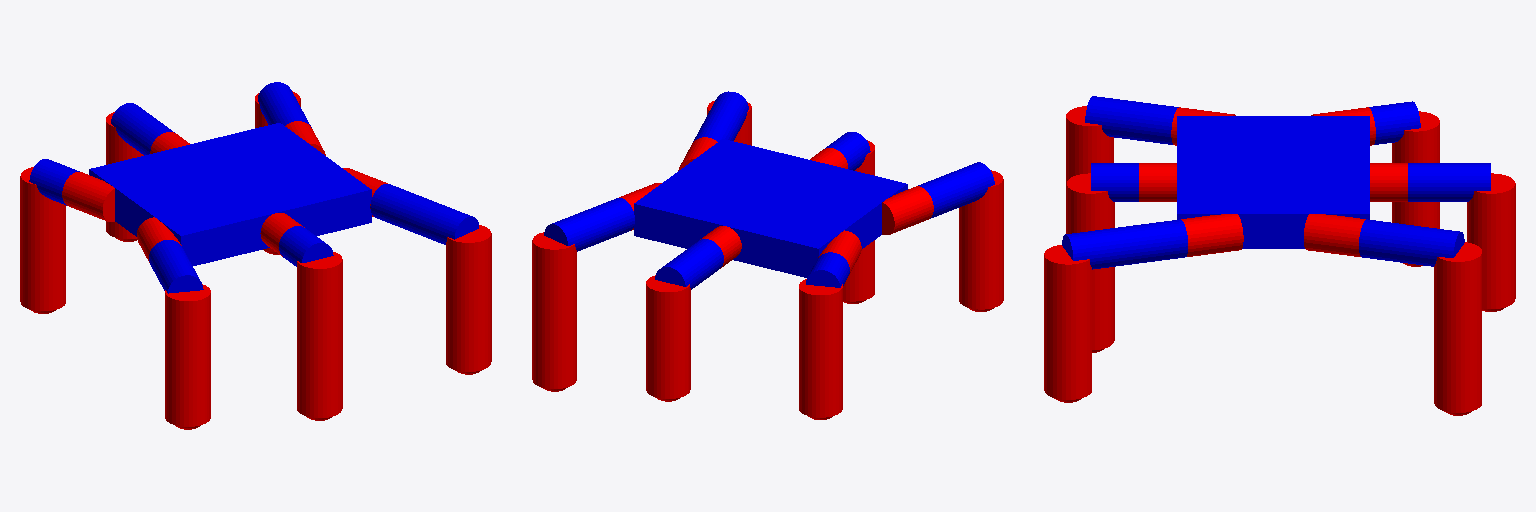
--- Render facts (derived) ---
3 views of the same robot in one strip: view 1: azimuth 30°, elevation 25°; view 2: azimuth 150°, elevation 25°; view 3: azimuth 270°, elevation 25° (orthographic).
Robot: pexod — 19 links, 18 joints (18 revolute); root link base_link; default pose: every joint at zero.
Visible links, largest first — view 1: base_link, leg_4_3, leg_3_3, leg_5_3, leg_0_3, leg_3_2, leg_5_2, leg_0_1, leg_1_2, leg_2_2, leg_4_2, leg_1_3 (+3 smaller); view 2: base_link, leg_2_3, leg_0_3, leg_5_3, leg_1_3, leg_2_2, leg_5_2, leg_1_2, leg_5_1, leg_3_2, leg_4_3, leg_0_2 (+3 smaller); view 3: base_link, leg_2_3, leg_3_3, leg_1_3, leg_3_2, leg_4_3, leg_2_2, leg_5_2, leg_1_2, leg_0_3, leg_5_3, leg_3_1 (+5 smaller).
Link boxes in pixels (x1,y1,x2,y2): base_link: (89,123,371,265); leg_4_3: (297,252,342,420); leg_3_3: (446,225,491,374); leg_5_3: (165,284,210,429); leg_0_3: (20,167,65,313); leg_3_2: (370,184,478,244); leg_5_2: (149,240,203,293); leg_0_1: (62,172,114,221); leg_1_2: (111,103,174,155); leg_2_2: (258,82,311,127); leg_4_2: (279,226,333,266); leg_1_3: (106,112,143,241); base_link: (634,139,907,277); leg_2_3: (532,232,576,391); leg_0_3: (799,279,842,419); leg_5_3: (959,170,1003,311); leg_1_3: (646,275,690,401); leg_2_2: (544,198,634,251); leg_5_2: (918,162,994,218); leg_1_2: (655,239,723,289); leg_5_1: (882,186,933,234); leg_3_2: (693,91,748,141); leg_4_3: (843,140,874,303); leg_0_2: (806,252,849,287); base_link: (1177,116,1369,248); leg_2_3: (1434,242,1481,415); leg_3_3: (1044,245,1091,402); leg_1_3: (1467,173,1515,311); leg_3_2: (1062,219,1187,269); leg_4_3: (1067,173,1114,352); leg_2_2: (1359,219,1464,266); leg_5_2: (1085,96,1178,144); leg_1_2: (1408,163,1490,201); leg_0_3: (1392,111,1439,266); leg_5_3: (1066,106,1113,233); leg_3_1: (1181,214,1243,256).
Size in the robot's own frame: 0.3899 by 0.4891 by 0.212 metres.
Geometry: primitives only (box / cylinder / sphere), no mesh files.

robot.urdf — pexod:
<?xml version="1.0" ?>
<!-- =================================================================================== -->
<!-- |    This document was autogenerated by xacro from pexod.xacro                    | -->
<!-- |    EDITING THIS FILE BY HAND IS NOT RECOMMENDED                                 | -->
<!-- =================================================================================== -->
<robot name="pexod" xmlns:xacro="http://www.ros.org/wiki/xacro">
  <!-- <xacro:include filename="$(find pexod_description)/urdf/pexod_control.xacro" /> -->
  <!-- MATERIALS -->
  <material name="Blue">
    <color rgba="0 0 1 1"/>
  </material>
  <material name="Red">
    <color rgba="1 0 0 1"/>
  </material>
  <material name="Green">
    <color rgba="0 1 0 1"/>
  </material>
  <material name="Yellow">
    <color rgba="1 1 0 1"/>
  </material>
  <material name="LightGrey">
    <color rgba="0.6 0.6 0.6 1.0"/>
  </material>
  <!-- END OF MATERIALS -->
  <!-- XACRO MACROS FOR VISUALS AND COLLISIONS -->
  <!-- END OF XACRO MACROS -->
  <!-- TORSO -->
  <link name="base_link">
    <visual>
      <origin rpy="0 0 0" xyz="0 0 0"/>
      <geometry>
        <box size="0.24 0.2 0.04"/>
      </geometry>
      <material name="Blue"/>
    </visual>
    <collision>
      <origin rpy="0 0 0" xyz="0 0 0"/>
      <geometry>
        <box size="0.24 0.2 0.04"/>
      </geometry>
    </collision>
    <inertial>
      <!-- CENTER OF MASS -->
      <origin rpy="0 0 0" xyz="0 0 0"/>
      <mass value="1.031"/>
      <!-- box inertia: 1/12*m(y^2+z^2), ... -->
      <inertia ixx="0.00357413333333" ixy="0" ixz="0" iyy="0.00508626666667" iyz="0" izz="0.00838546666667"/>
    </inertial>
  </link>
  <!-- XACRO MACRO FOR LEGS LINKS/JOINTS -->
  <!-- END OF LEG LINKS/JOINTS -->
  <joint name="body_leg_2" type="revolute">
    <parent link="base_link"/>
    <child link="leg_2_1"/>
    <limit effort="30.0" lower="-1.57079632679" upper="1.57079632679" velocity="7.0"/>
    <origin rpy="0 0 -0.3" xyz="0.11 0.04 0"/>
    <!-- <xacro:if value="${index == 5 or index == 4 or index == 3}">
                <axis xyz="0 0 1"/>
            </xacro:if>
            <xacro:if value="${index == 2 or index == 1 or index == 0}"> -->
    <axis xyz="0 0 1"/>
    <!-- </xacro:if> -->
    <dynamics damping="0.0"/>
  </joint>
  <link name="leg_2_1">
    <visual>
      <origin rpy="1.57079632679 0 0" xyz="0.01 0.03 0"/>
      <geometry>
        <cylinder length="0.06" radius="0.02"/>
      </geometry>
      <material name="Red"/>
    </visual>
    <collision>
      <origin rpy="1.57079632679 0 0" xyz="0.01 0.03 0"/>
      <geometry>
        <box size="0.02 0.02 0.06"/>
      </geometry>
    </collision>
    <inertial>
      <!-- CENTER OF MASS -->
      <origin rpy="1.57079632679 0 0" xyz="0.01 0.03 0"/>
      <mass value="0.02"/>
      <!-- box inertia: 1/12*m(y^2+z^2), ... -->
      <inertia ixx="6.66666666667e-06" ixy="0" ixz="0" iyy="6.66666666667e-06" iyz="0" izz="1.33333333333e-06"/>
    </inertial>
  </link>
  <joint name="leg_2_1_2" type="revolute">
    <parent link="leg_2_1"/>
    <child link="leg_2_2"/>
    <limit effort="30.0" lower="-0.78539816339" upper="0.78539816339" velocity="7.0"/>
    <origin rpy="0 0 0" xyz="0 0.06 0"/>
    <axis xyz="1 0 0"/>
    <dynamics damping="0.0"/>
  </joint>
  <link name="leg_2_2">
    <visual>
      <origin rpy="1.57079632679 0 0" xyz="0.01 0.051370087648 0"/>
      <geometry>
        <cylinder length="0.102740175296" radius="0.02"/>
      </geometry>
      <material name="Blue"/>
    </visual>
    <collision>
      <origin rpy="1.57079632679 0 0" xyz="0.01 0.051370087648 0"/>
      <geometry>
        <box size="0.02 0.02 0.102740175296"/>
      </geometry>
    </collision>
    <inertial>
      <!-- CENTER OF MASS -->
      <origin rpy="1.57079632679 0 0" xyz="0.01 0.051370087648 0"/>
      <mass value="0.184"/>
      <!-- box inertia: 1/12*m(y^2+z^2), ... -->
      <inertia ixx="0.000167985002171" ixy="0" ixz="0" iyy="0.000167985002171" iyz="0" izz="1.22666666667e-05"/>
    </inertial>
  </link>
  <joint name="leg_2_2_3" type="revolute">
    <parent link="leg_2_2"/>
    <child link="leg_2_3"/>
    <limit effort="30.0" lower="-0.78539816339" upper="0.78539816339" velocity="7.0"/>
    <origin rpy="-1.57079632679 0 0" xyz="0 0.102740175296 0"/>
    <axis xyz="-1 0 0"/>
    <dynamics damping="0.0"/>
  </joint>
  <link name="leg_2_3">
    <visual>
      <origin rpy="1.57079632679 0 0" xyz="0.0125 0.0865834188535 0"/>
      <geometry>
        <cylinder length="0.173166837707" radius="0.025"/>
      </geometry>
      <material name="Red"/>
    </visual>
    <visual>
      <origin rpy="1.57079632679 0 0" xyz="0.0125 0.160666837707 0"/>
      <geometry>
        <sphere radius="0.025"/>
      </geometry>
      <material name="Red"/>
    </visual>
    <collision>
      <origin rpy="1.57079632679 0 0" xyz="0.0125 0.0865834188535 0"/>
      <geometry>
        <box size="0.025 0.025 0.173166837707"/>
      </geometry>
    </collision>
    <collision>
      <origin rpy="1.57079632679 0 0" xyz="0.0125 0.160666837707 0"/>
      <geometry>
        <sphere radius="0.025"/>
      </geometry>
      <material name="Red"/>
    </collision>
    <inertial>
      <!-- CENTER OF MASS -->
      <origin rpy="1.57079632679 0 0" xyz="0.0125 0.0865834188535 0"/>
      <mass value="0.04"/>
      <!-- box inertia: 1/12*m(y^2+z^2), ... -->
      <inertia ixx="0.000102039178938" ixy="0" ixz="0" iyy="0.000102039178938" iyz="0" izz="4.16666666667e-06"/>
    </inertial>
  </link>
  <joint name="body_leg_3" type="revolute">
    <parent link="base_link"/>
    <child link="leg_3_1"/>
    <limit effort="30.0" lower="-1.57079632679" upper="1.57079632679" velocity="7.0"/>
    <origin rpy="0 0 0.3" xyz="0.11 -0.04 0"/>
    <!-- <xacro:if value="${index == 5 or index == 4 or index == 3}">
                <axis xyz="0 0 1"/>
            </xacro:if>
            <xacro:if value="${index == 2 or index == 1 or index == 0}"> -->
    <axis xyz="0 0 1"/>
    <!-- </xacro:if> -->
    <dynamics damping="0.0"/>
  </joint>
  <link name="leg_3_1">
    <visual>
      <origin rpy="1.57079632679 0 0" xyz="0.01 -0.03 0"/>
      <geometry>
        <cylinder length="0.06" radius="0.02"/>
      </geometry>
      <material name="Red"/>
    </visual>
    <collision>
      <origin rpy="1.57079632679 0 0" xyz="0.01 -0.03 0"/>
      <geometry>
        <box size="0.02 0.02 0.06"/>
      </geometry>
    </collision>
    <inertial>
      <!-- CENTER OF MASS -->
      <origin rpy="1.57079632679 0 0" xyz="0.01 -0.03 0"/>
      <mass value="0.02"/>
      <!-- box inertia: 1/12*m(y^2+z^2), ... -->
      <inertia ixx="6.66666666667e-06" ixy="0" ixz="0" iyy="6.66666666667e-06" iyz="0" izz="1.33333333333e-06"/>
    </inertial>
  </link>
  <joint name="leg_3_1_2" type="revolute">
    <parent link="leg_3_1"/>
    <child link="leg_3_2"/>
    <limit effort="30.0" lower="-0.78539816339" upper="0.78539816339" velocity="7.0"/>
    <origin rpy="0 0 0" xyz="0 -0.06 0"/>
    <axis xyz="-1 0 0"/>
    <dynamics damping="0.0"/>
  </joint>
  <link name="leg_3_2">
    <visual>
      <origin rpy="1.57079632679 0 0" xyz="0.01 -0.062484882601 0"/>
      <geometry>
        <cylinder length="0.124969765202" radius="0.02"/>
      </geometry>
      <material name="Blue"/>
    </visual>
    <collision>
      <origin rpy="1.57079632679 0 0" xyz="0.01 -0.062484882601 0"/>
      <geometry>
        <box size="0.02 0.02 0.124969765202"/>
      </geometry>
    </collision>
    <inertial>
      <!-- CENTER OF MASS -->
      <origin rpy="1.57079632679 0 0" xyz="0.01 -0.062484882601 0"/>
      <mass value="0.184"/>
      <!-- box inertia: 1/12*m(y^2+z^2), ... -->
      <inertia ixx="0.000245600780625" ixy="0" ixz="0" iyy="0.000245600780625" iyz="0" izz="1.22666666667e-05"/>
    </inertial>
  </link>
  <joint name="leg_3_2_3" type="revolute">
    <parent link="leg_3_2"/>
    <child link="leg_3_3"/>
    <limit effort="30.0" lower="-0.78539816339" upper="0.78539816339" velocity="7.0"/>
    <origin rpy="1.57079632679 0 0" xyz="0 -0.124969765202 0"/>
    <axis xyz="1 0 0"/>
    <dynamics damping="0.0"/>
  </joint>
  <link name="leg_3_3">
    <visual>
      <origin rpy="1.57079632679 0 0" xyz="0.0125 -0.0776095328615 0"/>
      <geometry>
        <cylinder length="0.155219065723" radius="0.025"/>
      </geometry>
      <material name="Red"/>
    </visual>
    <visual>
      <origin rpy="1.57079632679 0 0" xyz="0.0125 -0.142719065723 0"/>
      <geometry>
        <sphere radius="0.025"/>
      </geometry>
      <material name="Red"/>
    </visual>
    <collision>
      <origin rpy="1.57079632679 0 0" xyz="0.0125 -0.0776095328615 0"/>
      <geometry>
        <box size="0.025 0.025 0.155219065723"/>
      </geometry>
    </collision>
    <collision>
      <origin rpy="1.57079632679 0 0" xyz="0.0125 -0.142719065723 0"/>
      <geometry>
        <sphere radius="0.025"/>
      </geometry>
      <material name="Red"/>
    </collision>
    <inertial>
      <!-- CENTER OF MASS -->
      <origin rpy="1.57079632679 0 0" xyz="0.0125 -0.0776095328615 0"/>
      <mass value="0.04"/>
      <!-- box inertia: 1/12*m(y^2+z^2), ... -->
      <inertia ixx="8.23931945464e-05" ixy="0" ixz="0" iyy="8.23931945464e-05" iyz="0" izz="4.16666666667e-06"/>
    </inertial>
  </link>
  <joint name="body_leg_0" type="revolute">
    <parent link="base_link"/>
    <child link="leg_0_1"/>
    <limit effort="30.0" lower="-1.57079632679" upper="1.57079632679" velocity="7.0"/>
    <origin rpy="0 0 0.3" xyz="-0.13 0.04 0"/>
    <!-- <xacro:if value="${index == 5 or index == 4 or index == 3}">
                <axis xyz="0 0 1"/>
            </xacro:if>
            <xacro:if value="${index == 2 or index == 1 or index == 0}"> -->
    <axis xyz="0 0 1"/>
    <!-- </xacro:if> -->
    <dynamics damping="0.0"/>
  </joint>
  <link name="leg_0_1">
    <visual>
      <origin rpy="1.57079632679 0 0" xyz="0.01 0.03 0"/>
      <geometry>
        <cylinder length="0.06" radius="0.02"/>
      </geometry>
      <material name="Red"/>
    </visual>
    <collision>
      <origin rpy="1.57079632679 0 0" xyz="0.01 0.03 0"/>
      <geometry>
        <box size="0.02 0.02 0.06"/>
      </geometry>
    </collision>
    <inertial>
      <!-- CENTER OF MASS -->
      <origin rpy="1.57079632679 0 0" xyz="0.01 0.03 0"/>
      <mass value="0.02"/>
      <!-- box inertia: 1/12*m(y^2+z^2), ... -->
      <inertia ixx="6.66666666667e-06" ixy="0" ixz="0" iyy="6.66666666667e-06" iyz="0" izz="1.33333333333e-06"/>
    </inertial>
  </link>
  <joint name="leg_0_1_2" type="revolute">
    <parent link="leg_0_1"/>
    <child link="leg_0_2"/>
    <limit effort="30.0" lower="-0.78539816339" upper="0.78539816339" velocity="7.0"/>
    <origin rpy="0 0 0" xyz="0 0.06 0"/>
    <axis xyz="1 0 0"/>
    <dynamics damping="0.0"/>
  </joint>
  <link name="leg_0_2">
    <visual>
      <origin rpy="1.57079632679 0 0" xyz="0.01 0.0243795722923 0"/>
      <geometry>
        <cylinder length="0.0487591445845" radius="0.02"/>
      </geometry>
      <material name="Blue"/>
    </visual>
    <collision>
      <origin rpy="1.57079632679 0 0" xyz="0.01 0.0243795722923 0"/>
      <geometry>
        <box size="0.02 0.02 0.0487591445845"/>
      </geometry>
    </collision>
    <inertial>
      <!-- CENTER OF MASS -->
      <origin rpy="1.57079632679 0 0" xyz="0.01 0.0243795722923 0"/>
      <mass value="0.184"/>
      <!-- box inertia: 1/12*m(y^2+z^2), ... -->
      <inertia ixx="4.25876307694e-05" ixy="0" ixz="0" iyy="4.25876307694e-05" iyz="0" izz="1.22666666667e-05"/>
    </inertial>
  </link>
  <joint name="leg_0_2_3" type="revolute">
    <parent link="leg_0_2"/>
    <child link="leg_0_3"/>
    <limit effort="30.0" lower="-0.78539816339" upper="0.78539816339" velocity="7.0"/>
    <origin rpy="-1.57079632679 0 0" xyz="0 0.0487591445845 0"/>
    <axis xyz="-1 0 0"/>
    <dynamics damping="0.0"/>
  </joint>
  <link name="leg_0_3">
    <visual>
      <origin rpy="1.57079632679 0 0" xyz="0.0125 0.0758859993655 0"/>
      <geometry>
        <cylinder length="0.151771998731" radius="0.025"/>
      </geometry>
      <material name="Red"/>
    </visual>
    <visual>
      <origin rpy="1.57079632679 0 0" xyz="0.0125 0.139271998731 0"/>
      <geometry>
        <sphere radius="0.025"/>
      </geometry>
      <material name="Red"/>
    </visual>
    <collision>
      <origin rpy="1.57079632679 0 0" xyz="0.0125 0.0758859993655 0"/>
      <geometry>
        <box size="0.025 0.025 0.151771998731"/>
      </geometry>
    </collision>
    <collision>
      <origin rpy="1.57079632679 0 0" xyz="0.0125 0.139271998731 0"/>
      <geometry>
        <sphere radius="0.025"/>
      </geometry>
      <material name="Red"/>
    </collision>
    <inertial>
      <!-- CENTER OF MASS -->
      <origin rpy="1.57079632679 0 0" xyz="0.0125 0.0758859993655 0"/>
      <mass value="0.04"/>
      <!-- box inertia: 1/12*m(y^2+z^2), ... -->
      <inertia ixx="7.88657986627e-05" ixy="0" ixz="0" iyy="7.88657986627e-05" iyz="0" izz="4.16666666667e-06"/>
    </inertial>
  </link>
  <joint name="body_leg_5" type="revolute">
    <parent link="base_link"/>
    <child link="leg_5_1"/>
    <limit effort="30.0" lower="-1.57079632679" upper="1.57079632679" velocity="7.0"/>
    <origin rpy="0 0 -0.3" xyz="-0.13 -0.04 0"/>
    <!-- <xacro:if value="${index == 5 or index == 4 or index == 3}">
                <axis xyz="0 0 1"/>
            </xacro:if>
            <xacro:if value="${index == 2 or index == 1 or index == 0}"> -->
    <axis xyz="0 0 1"/>
    <!-- </xacro:if> -->
    <dynamics damping="0.0"/>
  </joint>
  <link name="leg_5_1">
    <visual>
      <origin rpy="1.57079632679 0 0" xyz="0.01 -0.03 0"/>
      <geometry>
        <cylinder length="0.06" radius="0.02"/>
      </geometry>
      <material name="Red"/>
    </visual>
    <collision>
      <origin rpy="1.57079632679 0 0" xyz="0.01 -0.03 0"/>
      <geometry>
        <box size="0.02 0.02 0.06"/>
      </geometry>
    </collision>
    <inertial>
      <!-- CENTER OF MASS -->
      <origin rpy="1.57079632679 0 0" xyz="0.01 -0.03 0"/>
      <mass value="0.02"/>
      <!-- box inertia: 1/12*m(y^2+z^2), ... -->
      <inertia ixx="6.66666666667e-06" ixy="0" ixz="0" iyy="6.66666666667e-06" iyz="0" izz="1.33333333333e-06"/>
    </inertial>
  </link>
  <joint name="leg_5_1_2" type="revolute">
    <parent link="leg_5_1"/>
    <child link="leg_5_2"/>
    <limit effort="30.0" lower="-0.78539816339" upper="0.78539816339" velocity="7.0"/>
    <origin rpy="0 0 0" xyz="0 -0.06 0"/>
    <axis xyz="-1 0 0"/>
    <dynamics damping="0.0"/>
  </joint>
  <link name="leg_5_2">
    <visual>
      <origin rpy="1.57079632679 0 0" xyz="0.01 -0.0468481593249 0"/>
      <geometry>
        <cylinder length="0.0936963186499" radius="0.02"/>
      </geometry>
      <material name="Blue"/>
    </visual>
    <collision>
      <origin rpy="1.57079632679 0 0" xyz="0.01 -0.0468481593249 0"/>
      <geometry>
        <box size="0.02 0.02 0.0936963186499"/>
      </geometry>
    </collision>
    <inertial>
      <!-- CENTER OF MASS -->
      <origin rpy="1.57079632679 0 0" xyz="0.01 -0.0468481593249 0"/>
      <mass value="0.184"/>
      <!-- box inertia: 1/12*m(y^2+z^2), ... -->
      <inertia ixx="0.000140744668638" ixy="0" ixz="0" iyy="0.000140744668638" iyz="0" izz="1.22666666667e-05"/>
    </inertial>
  </link>
  <joint name="leg_5_2_3" type="revolute">
    <parent link="leg_5_2"/>
    <child link="leg_5_3"/>
    <limit effort="30.0" lower="-0.78539816339" upper="0.78539816339" velocity="7.0"/>
    <origin rpy="1.57079632679 0 0" xyz="0 -0.0936963186499 0"/>
    <axis xyz="1 0 0"/>
    <dynamics damping="0.0"/>
  </joint>
  <link name="leg_5_3">
    <visual>
      <origin rpy="1.57079632679 0 0" xyz="0.0125 -0.0755222056105 0"/>
      <geometry>
        <cylinder length="0.151044411221" radius="0.025"/>
      </geometry>
      <material name="Red"/>
    </visual>
    <visual>
      <origin rpy="1.57079632679 0 0" xyz="0.0125 -0.138544411221 0"/>
      <geometry>
        <sphere radius="0.025"/>
      </geometry>
      <material name="Red"/>
    </visual>
    <collision>
      <origin rpy="1.57079632679 0 0" xyz="0.0125 -0.0755222056105 0"/>
      <geometry>
        <box size="0.025 0.025 0.151044411221"/>
      </geometry>
    </collision>
    <collision>
      <origin rpy="1.57079632679 0 0" xyz="0.0125 -0.138544411221 0"/>
      <geometry>
        <sphere radius="0.025"/>
      </geometry>
      <material name="Red"/>
    </collision>
    <inertial>
      <!-- CENTER OF MASS -->
      <origin rpy="1.57079632679 0 0" xyz="0.0125 -0.0755222056105 0"/>
      <mass value="0.04"/>
      <!-- box inertia: 1/12*m(y^2+z^2), ... -->
      <inertia ixx="7.8131380537e-05" ixy="0" ixz="0" iyy="7.8131380537e-05" iyz="0" izz="4.16666666667e-06"/>
    </inertial>
  </link>
  <joint name="body_leg_1" type="revolute">
    <parent link="base_link"/>
    <child link="leg_1_1"/>
    <limit effort="30.0" lower="-1.57079632679" upper="1.57079632679" velocity="7.0"/>
    <origin rpy="0 0 0" xyz="-0.01 0.08 0"/>
    <!-- <xacro:if value="${index == 5 or index == 4 or index == 3}">
                <axis xyz="0 0 1"/>
            </xacro:if>
            <xacro:if value="${index == 2 or index == 1 or index == 0}"> -->
    <axis xyz="0 0 1"/>
    <!-- </xacro:if> -->
    <dynamics damping="0.0"/>
  </joint>
  <link name="leg_1_1">
    <visual>
      <origin rpy="1.57079632679 0 0" xyz="0.01 0.03 0"/>
      <geometry>
        <cylinder length="0.06" radius="0.02"/>
      </geometry>
      <material name="Red"/>
    </visual>
    <collision>
      <origin rpy="1.57079632679 0 0" xyz="0.01 0.03 0"/>
      <geometry>
        <box size="0.02 0.02 0.06"/>
      </geometry>
    </collision>
    <inertial>
      <!-- CENTER OF MASS -->
      <origin rpy="1.57079632679 0 0" xyz="0.01 0.03 0"/>
      <mass value="0.02"/>
      <!-- box inertia: 1/12*m(y^2+z^2), ... -->
      <inertia ixx="6.66666666667e-06" ixy="0" ixz="0" iyy="6.66666666667e-06" iyz="0" izz="1.33333333333e-06"/>
    </inertial>
  </link>
  <joint name="leg_1_1_2" type="revolute">
    <parent link="leg_1_1"/>
    <child link="leg_1_2"/>
    <limit effort="30.0" lower="-0.78539816339" upper="0.78539816339" velocity="7.0"/>
    <origin rpy="0 0 0" xyz="0 0.06 0"/>
    <axis xyz="1 0 0"/>
    <dynamics damping="0.0"/>
  </joint>
  <link name="leg_1_2">
    <visual>
      <origin rpy="1.57079632679 0 0" xyz="0.01 0.0430791869138 0"/>
      <geometry>
        <cylinder length="0.0861583738276" radius="0.02"/>
      </geometry>
      <material name="Blue"/>
    </visual>
    <collision>
      <origin rpy="1.57079632679 0 0" xyz="0.01 0.0430791869138 0"/>
      <geometry>
        <box size="0.02 0.02 0.0861583738276"/>
      </geometry>
    </collision>
    <inertial>
      <!-- CENTER OF MASS -->
      <origin rpy="1.57079632679 0 0" xyz="0.01 0.0430791869138 0"/>
      <mass value="0.184"/>
      <!-- box inertia: 1/12*m(y^2+z^2), ... -->
      <inertia ixx="0.000119956735836" ixy="0" ixz="0" iyy="0.000119956735836" iyz="0" izz="1.22666666667e-05"/>
    </inertial>
  </link>
  <joint name="leg_1_2_3" type="revolute">
    <parent link="leg_1_2"/>
    <child link="leg_1_3"/>
    <limit effort="30.0" lower="-0.78539816339" upper="0.78539816339" velocity="7.0"/>
    <origin rpy="-1.57079632679 0 0" xyz="0 0.0861583738276 0"/>
    <axis xyz="-1 0 0"/>
    <dynamics damping="0.0"/>
  </joint>
  <link name="leg_1_3">
    <visual>
      <origin rpy="1.57079632679 0 0" xyz="0.0125 0.0662327185545 0"/>
      <geometry>
        <cylinder length="0.132465437109" radius="0.025"/>
      </geometry>
      <material name="Red"/>
    </visual>
    <visual>
      <origin rpy="1.57079632679 0 0" xyz="0.0125 0.119965437109 0"/>
      <geometry>
        <sphere radius="0.025"/>
      </geometry>
      <material name="Red"/>
    </visual>
    <collision>
      <origin rpy="1.57079632679 0 0" xyz="0.0125 0.0662327185545 0"/>
      <geometry>
        <box size="0.025 0.025 0.132465437109"/>
      </geometry>
    </collision>
    <collision>
      <origin rpy="1.57079632679 0 0" xyz="0.0125 0.119965437109 0"/>
      <geometry>
        <sphere radius="0.025"/>
      </geometry>
      <material name="Red"/>
    </collision>
    <inertial>
      <!-- CENTER OF MASS -->
      <origin rpy="1.57079632679 0 0" xyz="0.0125 0.0662327185545 0"/>
      <mass value="0.04"/>
      <!-- box inertia: 1/12*m(y^2+z^2), ... -->
      <inertia ixx="6.05736400949e-05" ixy="0" ixz="0" iyy="6.05736400949e-05" iyz="0" izz="4.16666666667e-06"/>
    </inertial>
  </link>
  <joint name="body_leg_4" type="revolute">
    <parent link="base_link"/>
    <child link="leg_4_1"/>
    <limit effort="30.0" lower="-1.57079632679" upper="1.57079632679" velocity="7.0"/>
    <origin rpy="0 0 0" xyz="-0.01 -0.08 0"/>
    <!-- <xacro:if value="${index == 5 or index == 4 or index == 3}">
                <axis xyz="0 0 1"/>
            </xacro:if>
            <xacro:if value="${index == 2 or index == 1 or index == 0}"> -->
    <axis xyz="0 0 1"/>
    <!-- </xacro:if> -->
    <dynamics damping="0.0"/>
  </joint>
  <link name="leg_4_1">
    <visual>
      <origin rpy="1.57079632679 0 0" xyz="0.01 -0.03 0"/>
      <geometry>
        <cylinder length="0.06" radius="0.02"/>
      </geometry>
      <material name="Red"/>
    </visual>
    <collision>
      <origin rpy="1.57079632679 0 0" xyz="0.01 -0.03 0"/>
      <geometry>
        <box size="0.02 0.02 0.06"/>
      </geometry>
    </collision>
    <inertial>
      <!-- CENTER OF MASS -->
      <origin rpy="1.57079632679 0 0" xyz="0.01 -0.03 0"/>
      <mass value="0.02"/>
      <!-- box inertia: 1/12*m(y^2+z^2), ... -->
      <inertia ixx="6.66666666667e-06" ixy="0" ixz="0" iyy="6.66666666667e-06" iyz="0" izz="1.33333333333e-06"/>
    </inertial>
  </link>
  <joint name="leg_4_1_2" type="revolute">
    <parent link="leg_4_1"/>
    <child link="leg_4_2"/>
    <limit effort="30.0" lower="-0.78539816339" upper="0.78539816339" velocity="7.0"/>
    <origin rpy="0 0 0" xyz="0 -0.06 0"/>
    <axis xyz="-1 0 0"/>
    <dynamics damping="0.0"/>
  </joint>
  <link name="leg_4_2">
    <visual>
      <origin rpy="1.57079632679 0 0" xyz="0.01 -0.0249843867041 0"/>
      <geometry>
        <cylinder length="0.0499687734082" radius="0.02"/>
      </geometry>
      <material name="Blue"/>
    </visual>
    <collision>
      <origin rpy="1.57079632679 0 0" xyz="0.01 -0.0249843867041 0"/>
      <geometry>
        <box size="0.02 0.02 0.0499687734082"/>
      </geometry>
    </collision>
    <inertial>
      <!-- CENTER OF MASS -->
      <origin rpy="1.57079632679 0 0" xyz="0.01 -0.0249843867041 0"/>
      <mass value="0.184"/>
      <!-- box inertia: 1/12*m(y^2+z^2), ... -->
      <inertia ixx="4.44188008441e-05" ixy="0" ixz="0" iyy="4.44188008441e-05" iyz="0" izz="1.22666666667e-05"/>
    </inertial>
  </link>
  <joint name="leg_4_2_3" type="revolute">
    <parent link="leg_4_2"/>
    <child link="leg_4_3"/>
    <limit effort="30.0" lower="-0.78539816339" upper="0.78539816339" velocity="7.0"/>
    <origin rpy="1.57079632679 0 0" xyz="0 -0.0499687734082 0"/>
    <axis xyz="1 0 0"/>
    <dynamics damping="0.0"/>
  </joint>
  <link name="leg_4_3">
    <visual>
      <origin rpy="1.57079632679 0 0" xyz="0.0125 -0.0897617518945 0"/>
      <geometry>
        <cylinder length="0.179523503789" radius="0.025"/>
      </geometry>
      <material name="Red"/>
    </visual>
    <visual>
      <origin rpy="1.57079632679 0 0" xyz="0.0125 -0.167023503789 0"/>
      <geometry>
        <sphere radius="0.025"/>
      </geometry>
      <material name="Red"/>
    </visual>
    <collision>
      <origin rpy="1.57079632679 0 0" xyz="0.0125 -0.0897617518945 0"/>
      <geometry>
        <box size="0.025 0.025 0.179523503789"/>
      </geometry>
    </collision>
    <collision>
      <origin rpy="1.57079632679 0 0" xyz="0.0125 -0.167023503789 0"/>
      <geometry>
        <sphere radius="0.025"/>
      </geometry>
      <material name="Red"/>
    </collision>
    <inertial>
      <!-- CENTER OF MASS -->
      <origin rpy="1.57079632679 0 0" xyz="0.0125 -0.0897617518945 0"/>
      <mass value="0.04"/>
      <!-- box inertia: 1/12*m(y^2+z^2), ... -->
      <inertia ixx="0.000109512294709" ixy="0" ixz="0" iyy="0.000109512294709" iyz="0" izz="4.16666666667e-06"/>
    </inertial>
  </link>
  <!-- END OF LEG LINKS/JOINTS -->
</robot>
